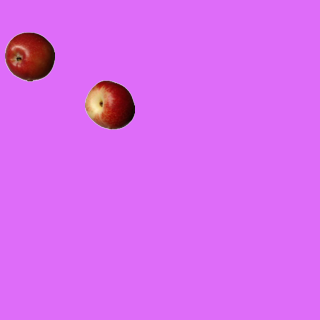Apple Braeburn: (4, 31, 54, 81)
Nectarine: (84, 79, 134, 129)
